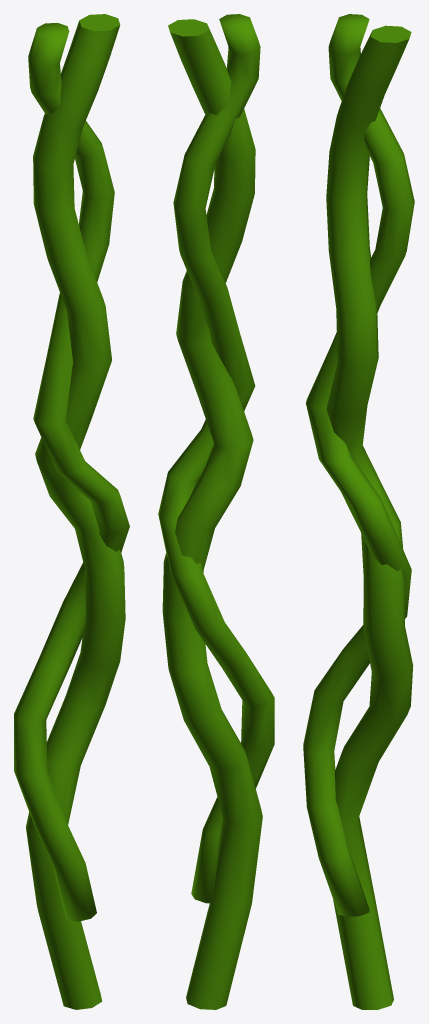
File: Ranken_8.fbx
3 renders of one model, left to right at view 1: azimuth 30°, elevation 25°; view 2: azimuth 210°, elevation 25°; view 3: azimuth 330°, elevation 25°, orthographic.
Visible parts, largest first — view 1: Ranken_8; view 2: Ranken_8; view 3: Ranken_8.
Part boxes in pixels (x1,y1,x2,y2): Ranken_8: (14, 14, 129, 1009); Ranken_8: (158, 14, 274, 1009); Ranken_8: (303, 14, 414, 1009).
Size of the model in its own units: 264 by 2358 by 187.
